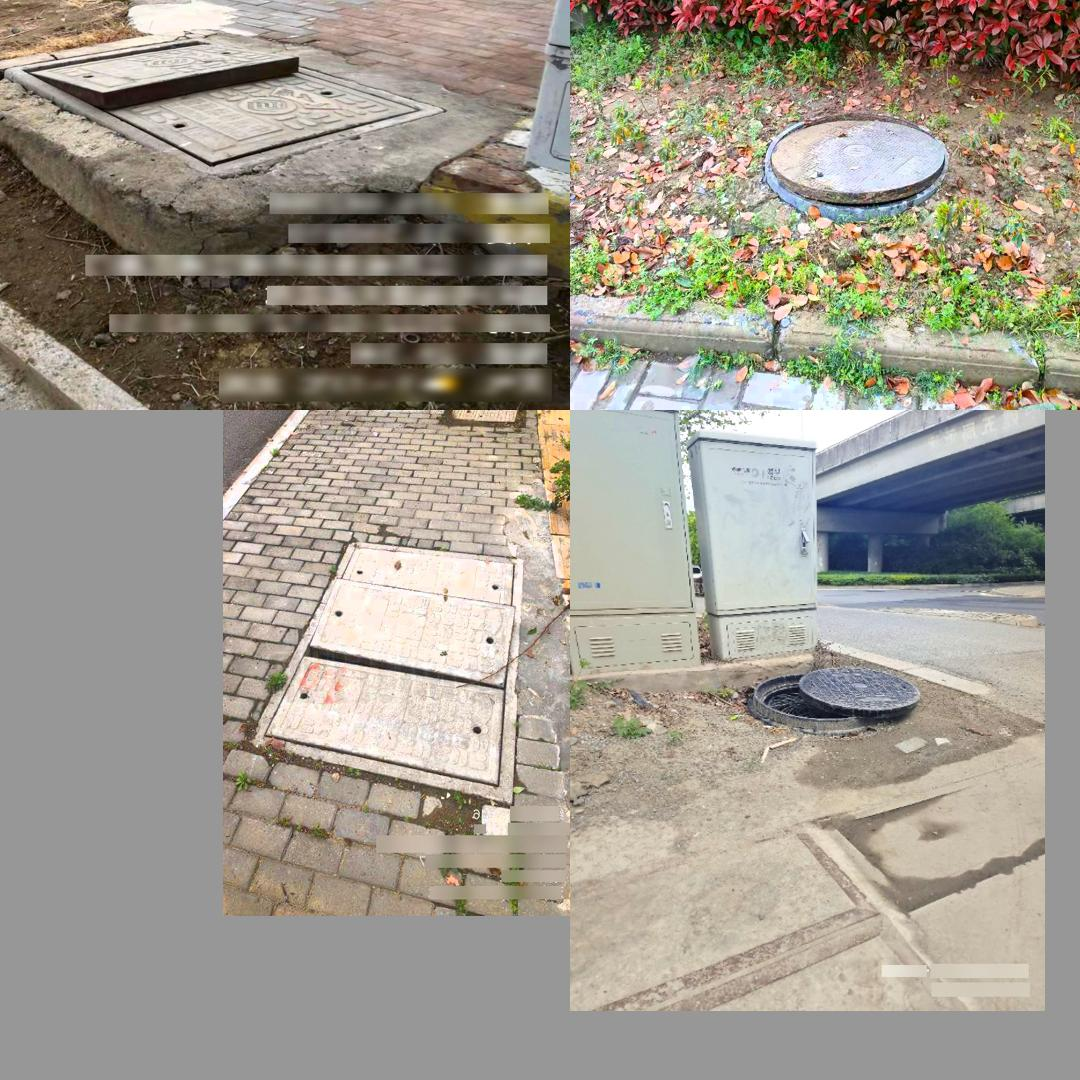uncovered: (251, 542, 523, 803), (0, 11, 344, 119), (758, 94, 949, 206), (753, 666, 917, 729)
